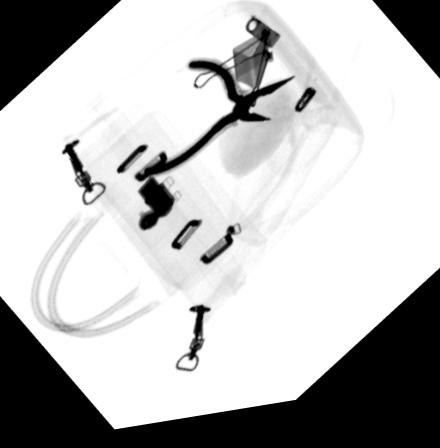Pliers: (140, 64, 295, 184)
